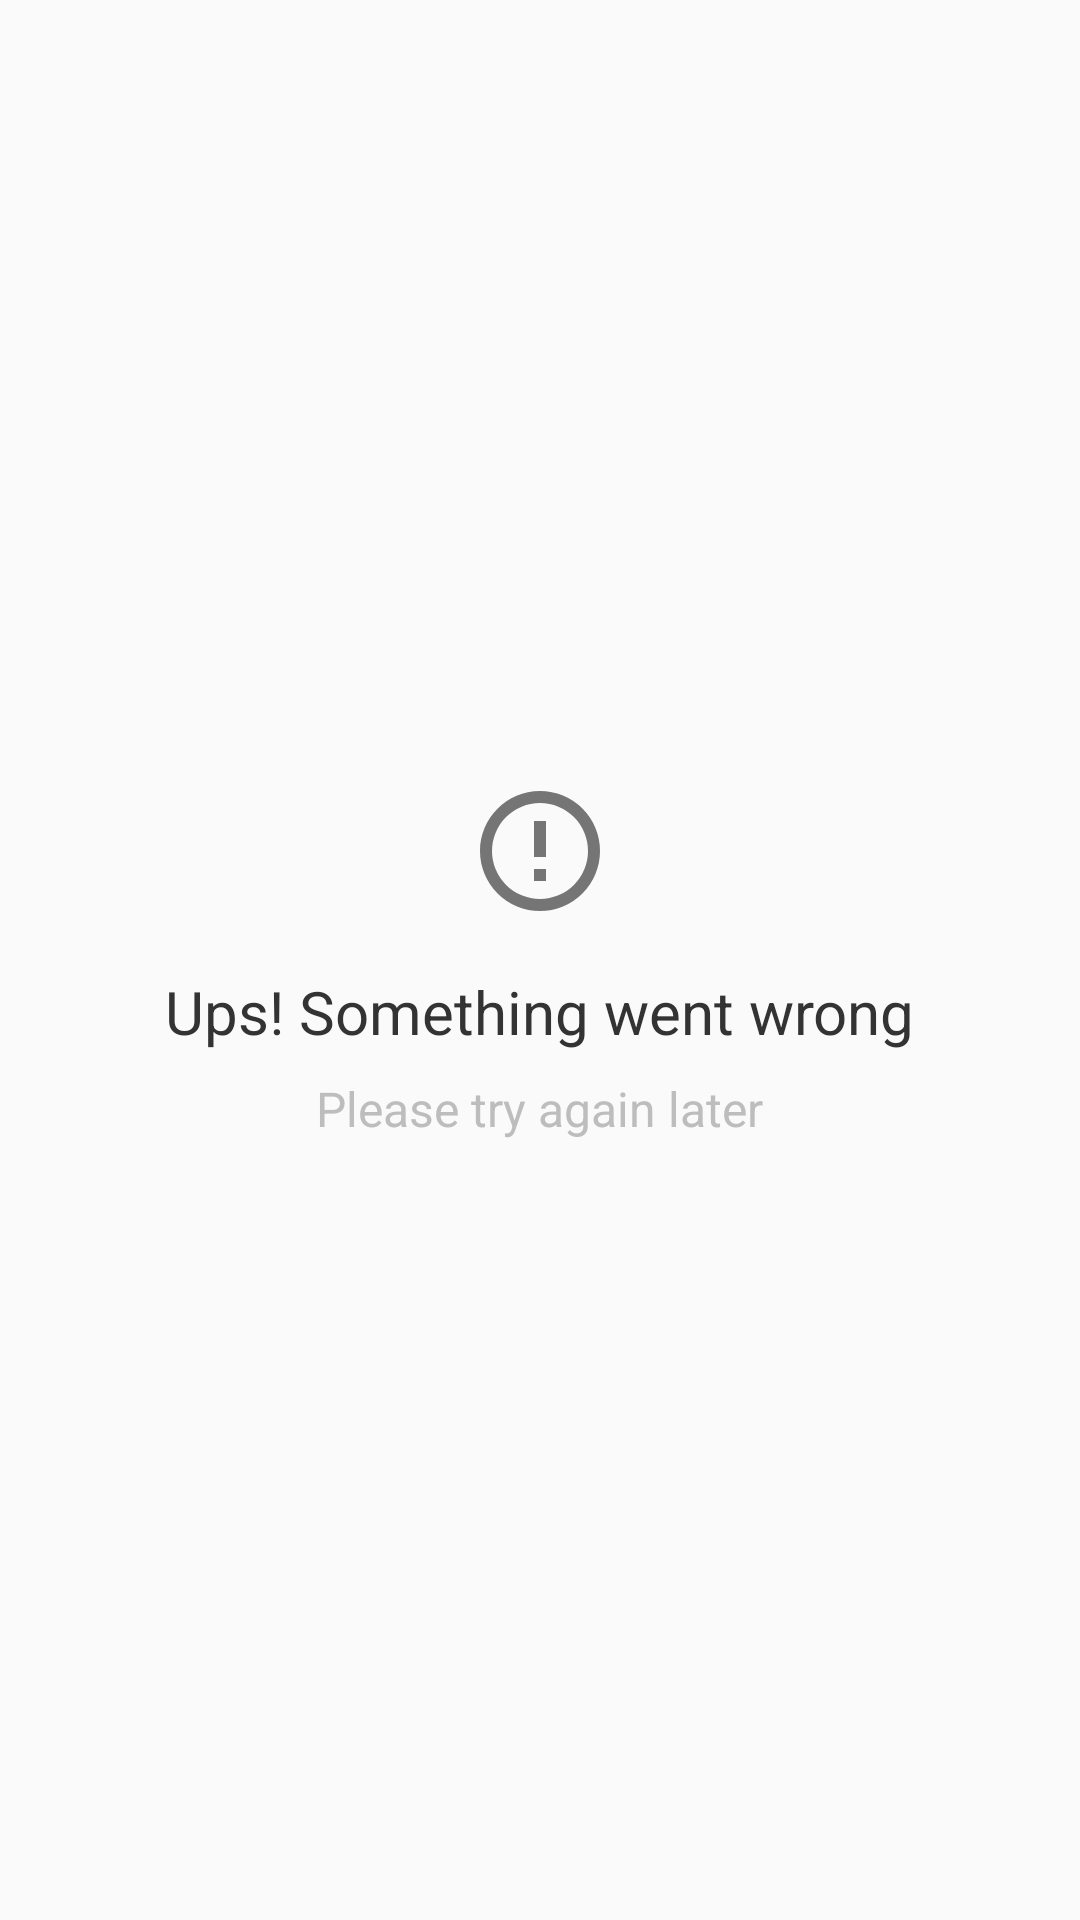

Icon click points for this 1080×1920 phone screenshot, format (x=x, y=y):
error: (x=540, y=851)
